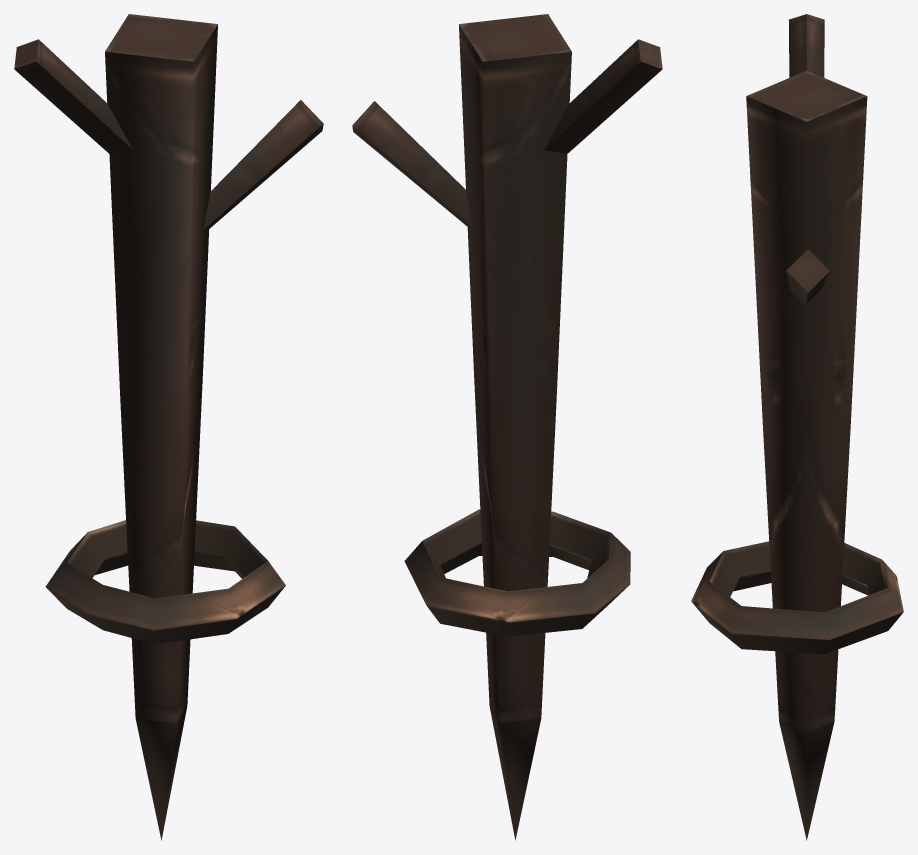
The model's file is bileizhen.FBX.
The picture shows the model from 3 angles, left to right: view 1: azimuth 30°, elevation 25°; view 2: azimuth 150°, elevation 25°; view 3: azimuth 270°, elevation 25°; orthographic projection. The views are drawn at different scales.
Parts seen in each view (by area): view 1: bileizhen; view 2: bileizhen; view 3: bileizhen.
Part boxes in pixels (x1,y1,x2,y2): bileizhen: (14, 14, 323, 840); bileizhen: (352, 14, 662, 840); bileizhen: (691, 14, 903, 840).
Bounding box in the file's own units: 53.13 × 137 × 34.18.
